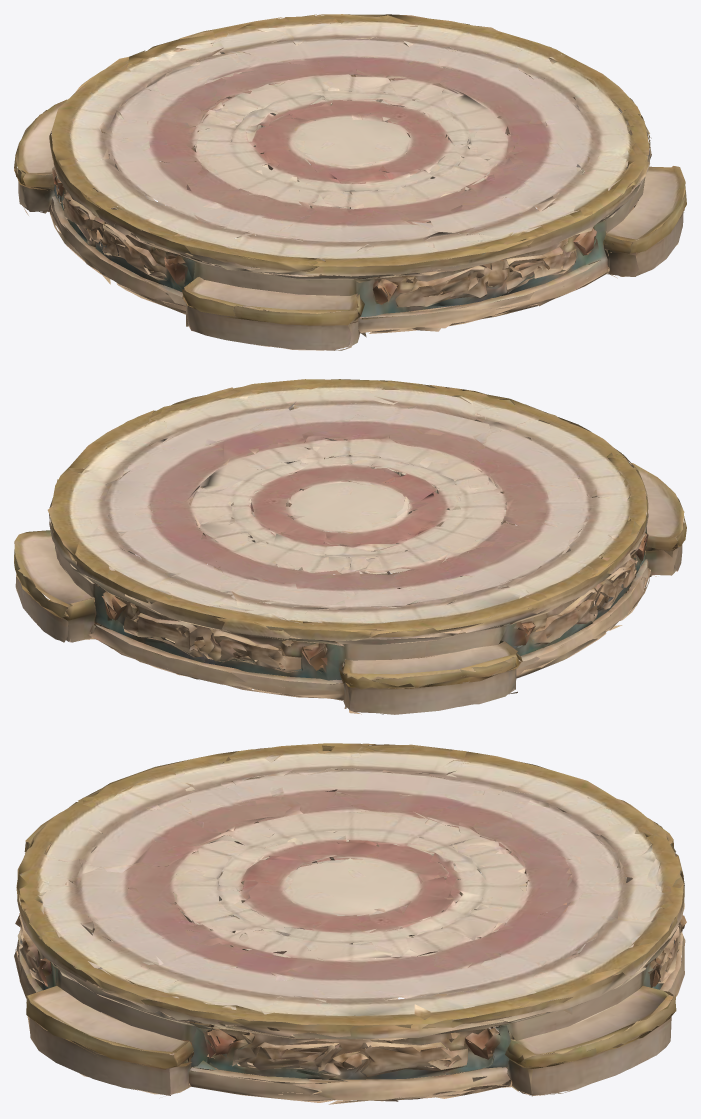
File: park-teacup-deck.glb
The picture shows the model from 3 angles, top to bottom: view 1: azimuth 30°, elevation 25°; view 2: azimuth 150°, elevation 25°; view 3: azimuth 270°, elevation 25°; orthographic projection. The views are drawn at different scales.
Parts seen in each view (by area): view 1: world; view 2: world; view 3: world.
Part boxes in pixels (x1=…): world: x1=14, y1=14, x2=686, y2=350; world: x1=14, y1=379, x2=686, y2=714; world: x1=14, y1=743, x2=686, y2=1104.
Bounding box in the file's own units: 0.4516 × 0.0658 × 0.4524.
1 material, 1 textured.
